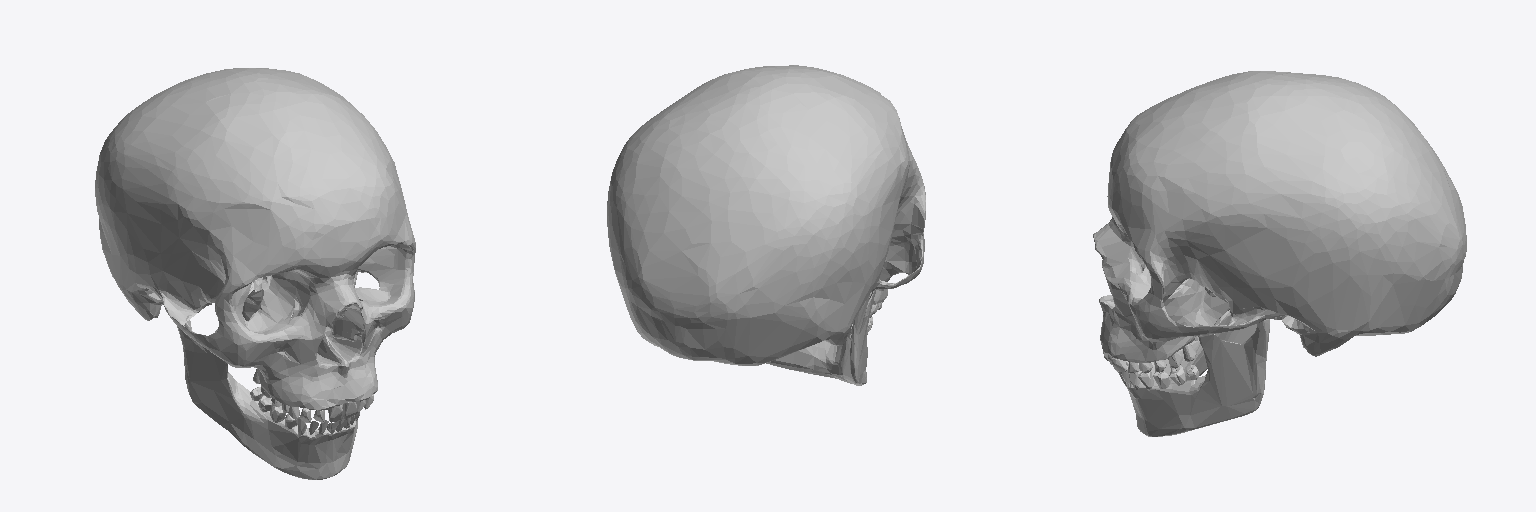
Rendered from skull4.obj.
3 renders of one model, left to right at view 1: azimuth 30°, elevation 25°; view 2: azimuth 150°, elevation 25°; view 3: azimuth 270°, elevation 25°, orthographic.
Visible parts, largest first — view 1: Skull; view 2: Skull; view 3: Skull.
Part boxes in pixels (x1,y1,x2,y2): Skull: (95,68,415,479); Skull: (607,65,925,385); Skull: (1093,71,1466,436).
Bounding box in the file's own units: 8.55 × 11.53 × 11.39.